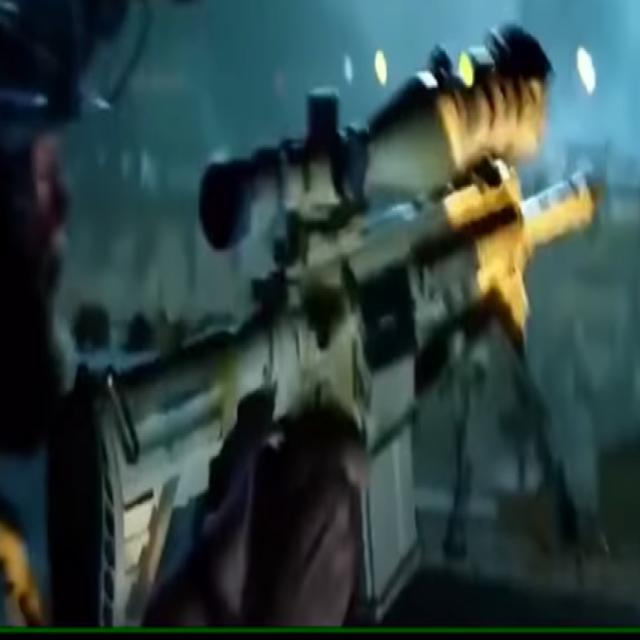bazooka: (51, 1, 621, 640)
